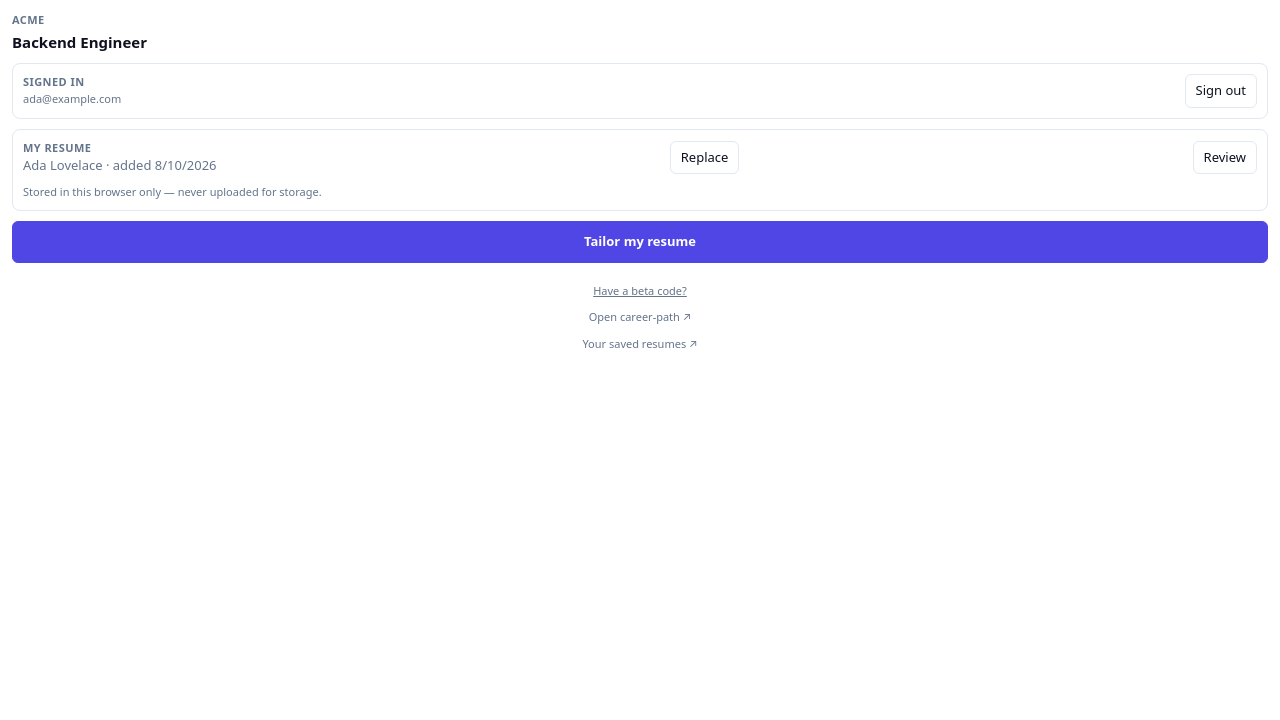
Test: App - account bar, sign-out, and session handling › surfaces a signOut() failure, keeps the dialog open for a retry, and does not desync the account bar from the still-live session
Click the button "Sign out" at (1221, 91), box [1184, 74, 1257, 108]
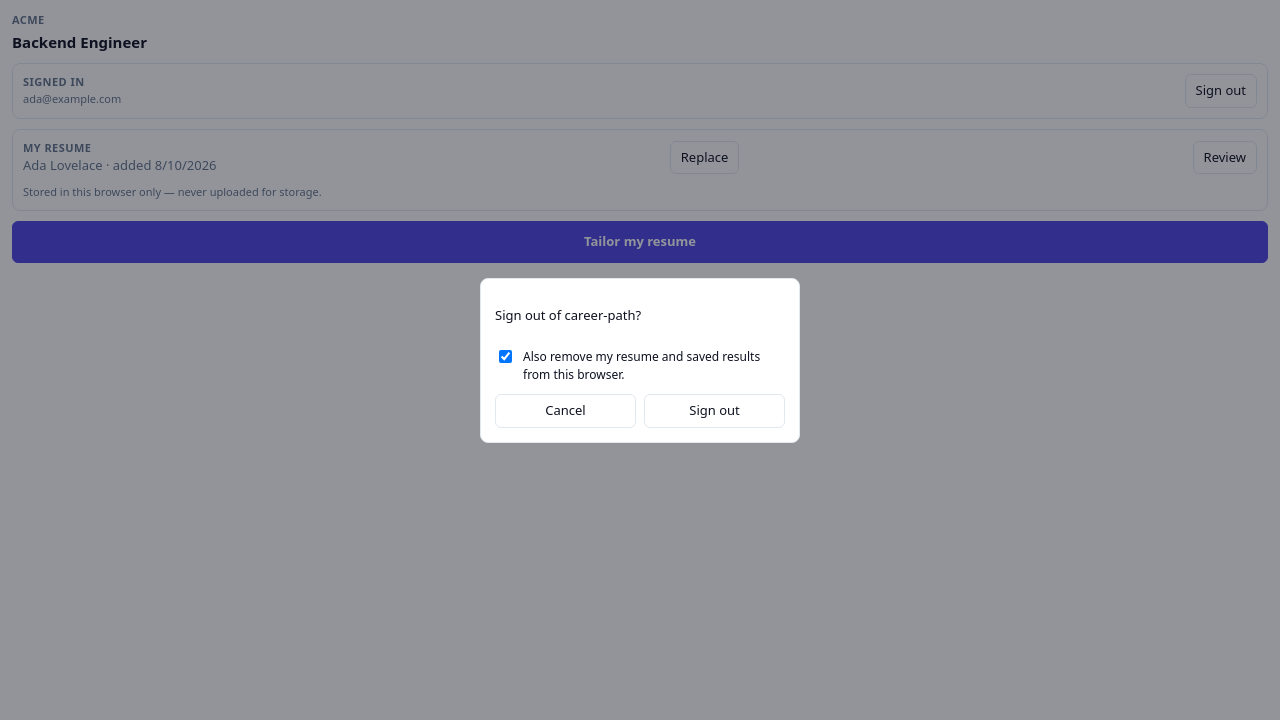
Click the checkbox labelled "Also remove my resume and saved results from this browser." at (506, 356), box [499, 350, 512, 363]
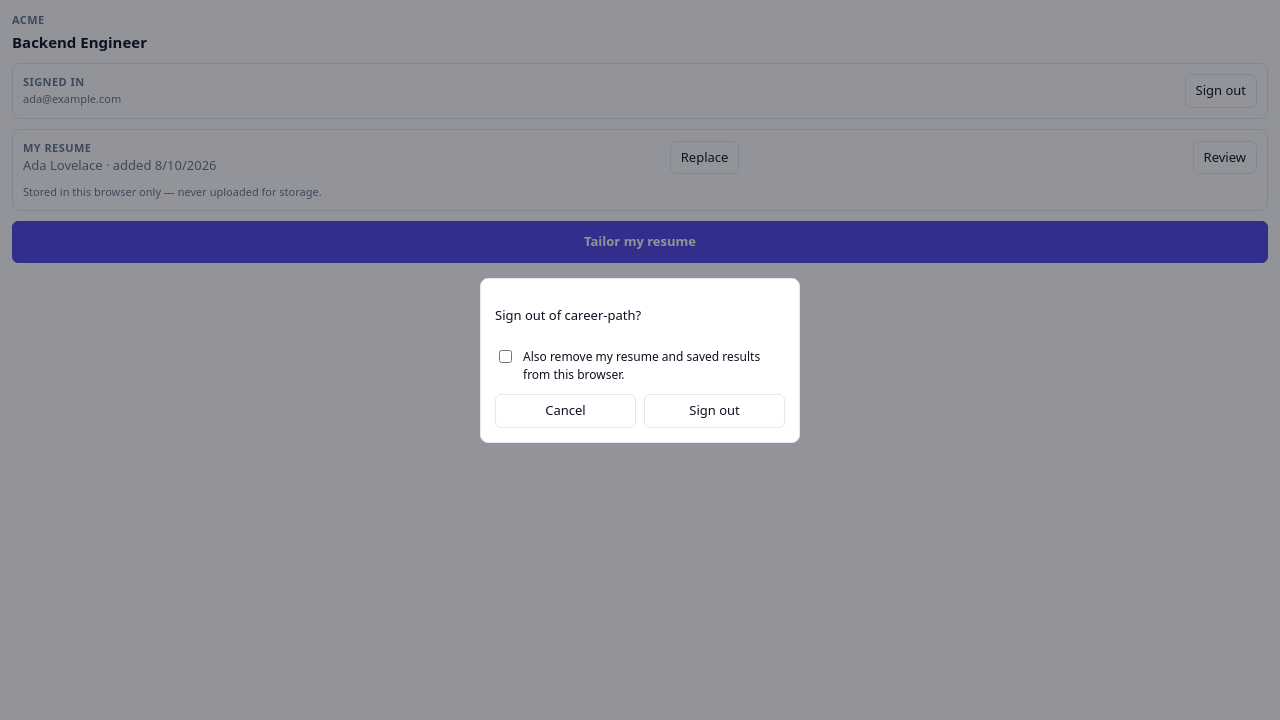
Click the button "Sign out" at (714, 411), box [644, 394, 785, 428]
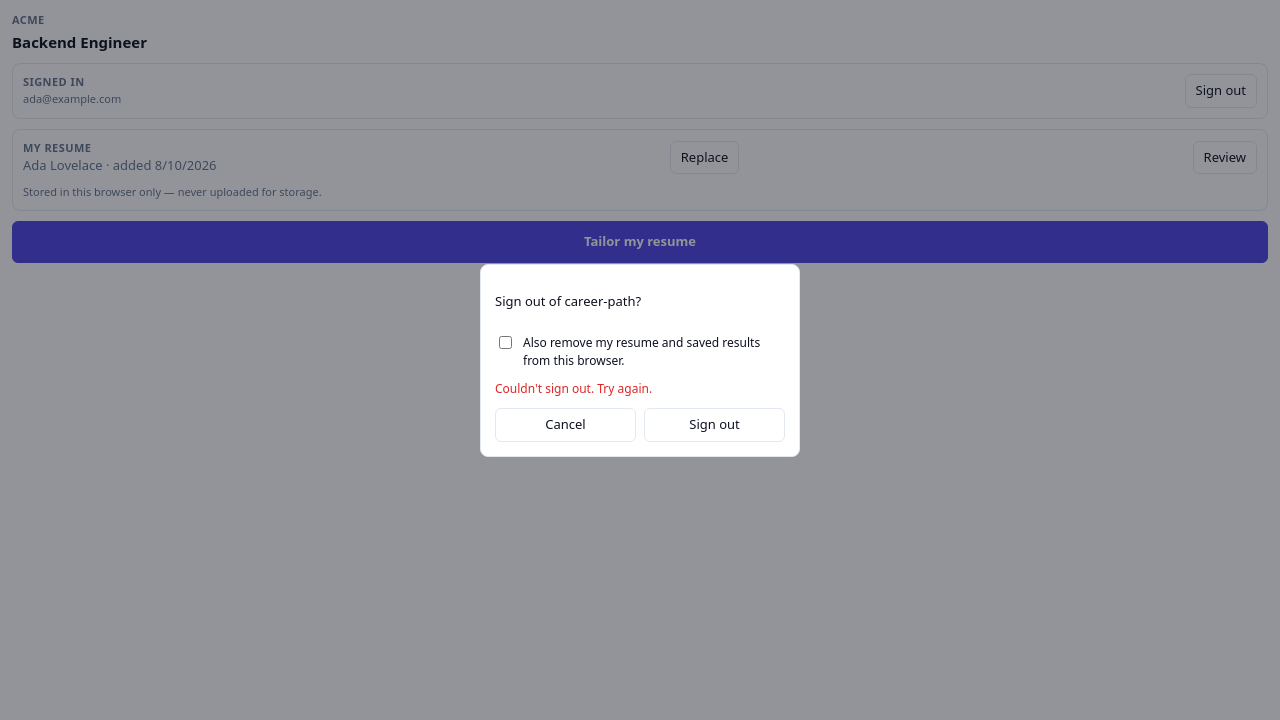
Check: the text "ada@example.com" is shown, box [23, 91, 121, 107]
Check: the dialog with class "dialog" is shown, box [480, 264, 800, 456]
Check: the dialog with class "dialog" shows "Couldn't sign out. Try again.", box [495, 380, 652, 397]
Click the button "Sign out" at (714, 425), box [644, 408, 785, 442]
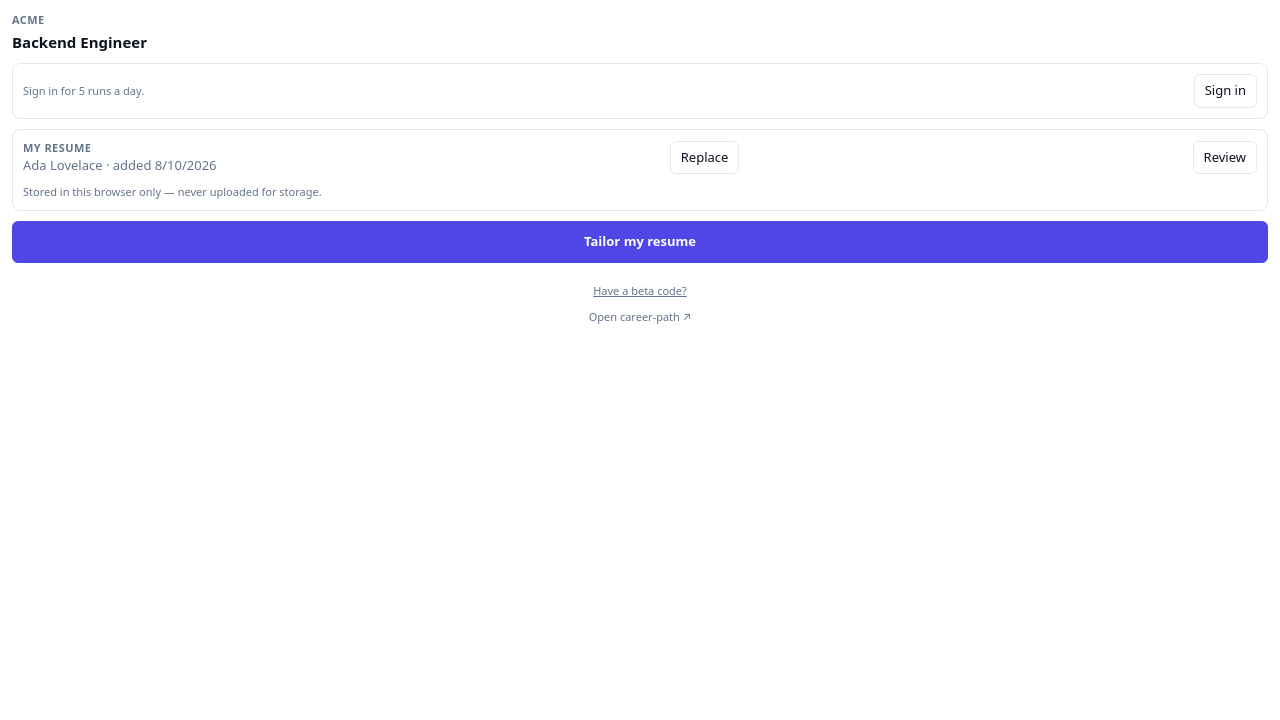
Check: the dialog with class "dialog" is gone
Check: the link "Sign in" is shown, box [1194, 74, 1257, 108]
